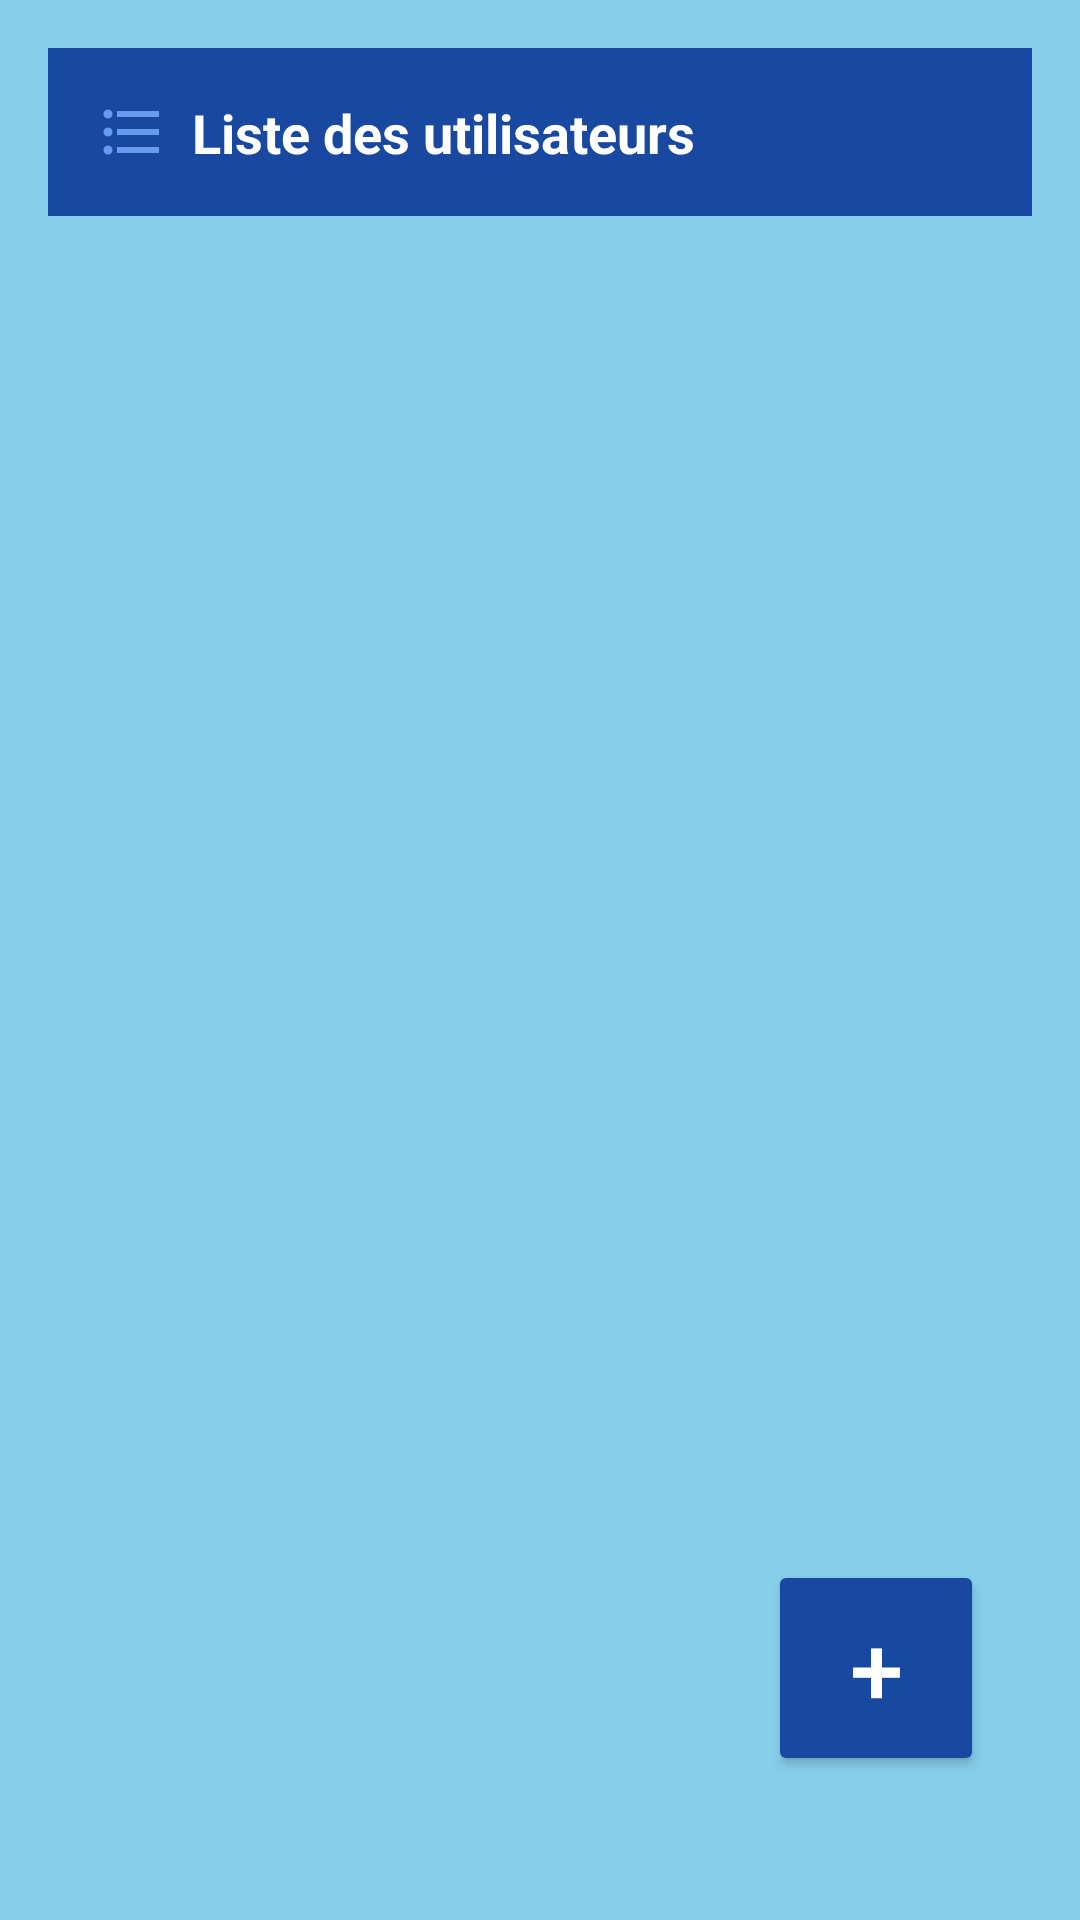

Point at icon controls on the screen. Image size 1080w x 1920h, points as point (x, y).
Icône liste: point (131, 132)
